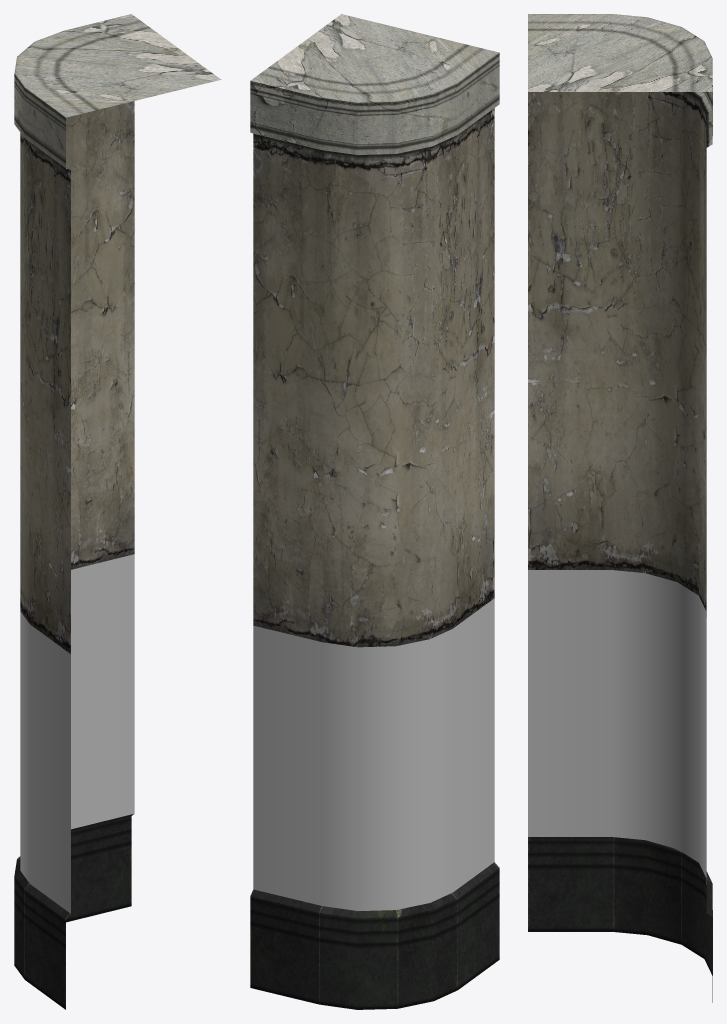
Rendered from urban_damaged_small_curve_wall.dae.
3 views of the same model, side by side, from view 1: azimuth 30°, elevation 25°; view 2: azimuth 150°, elevation 25°; view 3: azimuth 270°, elevation 25° (orthographic). The views are drawn at different scales.
Visible parts, largest first — view 1: polySurface731, polySurface732, polySurface730, polySurface729; view 2: polySurface731, polySurface732, polySurface730, polySurface729; view 3: polySurface731, polySurface732, polySurface729, polySurface730.
Boxes of the visible parts, <box> form: polySurface731: <box>20,101,134,653</box>; polySurface732: <box>20,554,134,913</box>; polySurface730: <box>14,14,221,170</box>; polySurface729: <box>14,814,133,1009</box>; polySurface731: <box>253,108,494,647</box>; polySurface732: <box>253,598,494,910</box>; polySurface730: <box>250,14,499,155</box>; polySurface729: <box>250,862,499,1009</box>; polySurface731: <box>528,92,706,617</box>; polySurface732: <box>528,570,706,884</box>; polySurface729: <box>528,837,712,1002</box>; polySurface730: <box>528,14,712,147</box>.
Size of the model in its own units: 0.7757 by 4.25 by 0.7756.
